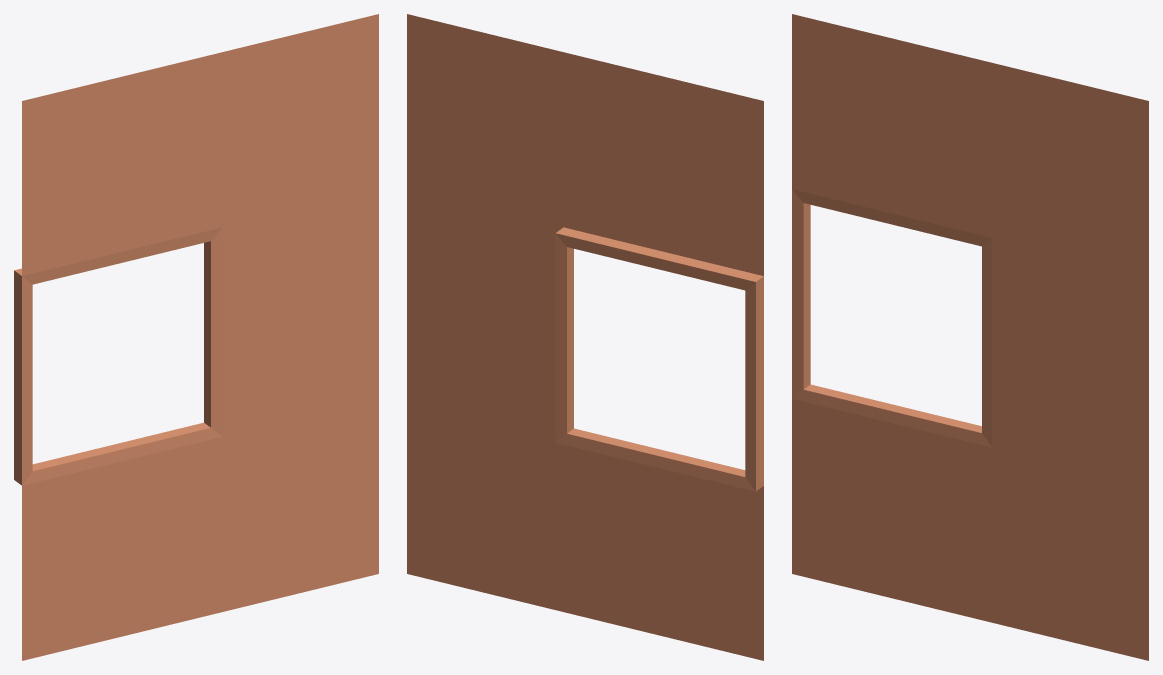
File: Windowwall_Pausenraum.fbx
3 views of the same model, side by side, from view 1: azimuth 30°, elevation 25°; view 2: azimuth 150°, elevation 25°; view 3: azimuth 330°, elevation 25° (orthographic).
Visible parts, largest first — view 1: walls.001; view 2: walls.001; view 3: walls.001.
Boxes of the visible parts, x1,y1,x2,y2 form: walls.001: [14, 14, 378, 660]; walls.001: [407, 14, 763, 660]; walls.001: [792, 14, 1148, 660].
Bounding box in the file's own units: 200 × 300 × 7.76.
